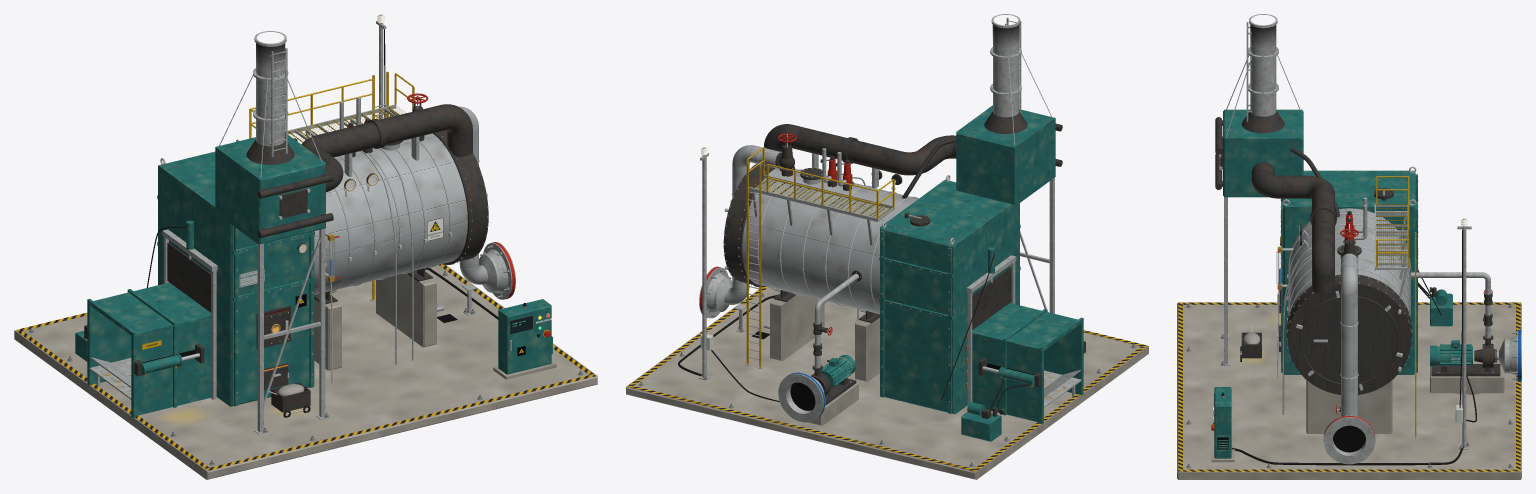
File: Boiler.glb
The picture shows the model from 3 angles, left to right: view 1: azimuth 30°, elevation 25°; view 2: azimuth 150°, elevation 25°; view 3: azimuth 270°, elevation 25°; orthographic projection. The views are drawn at different scales.
Parts seen in each view (by area): view 1: BO_Foundation_Concrete, BO_Furnace_Teal, BO_Shell_Lagging, BO_Feeder_Teal, BO_Chimney_Iron, BO_Chimney_Teal, BO_Chimney_Galv, BO_Controls_Teal, BO_Foundation_Hazard, BO_Shell_Iron, BO_Feeder_Galv, BO_Feeder_Iron (+8 smaller); view 2: BO_Foundation_Concrete, BO_Furnace_Teal, BO_Shell_Lagging, BO_Feeder_Teal, BO_Chimney_Teal, BO_Chimney_Iron, BO_Chimney_Galv, BO_Shell_Iron, BO_Foundation_Hazard, BO_Catwalk_Guard, BO_Catwalk_Galv, BO_Feeder_Galv (+13 smaller); view 3: BO_Foundation_Concrete, BO_Shell_Iron, BO_Furnace_Teal, BO_Chimney_Iron, BO_Chimney_Teal, BO_Shell_Lagging, BO_Chimney_Galv, BO_Foundation_Hazard, BO_Fittings_Lagging, BO_Pump_Iron, BO_Catwalk_Galv, BO_Shell_Steel (+16 smaller).
Part boxes in pixels (box(x1,y1,x2,y2)): BO_Foundation_Concrete: box(14, 265, 597, 479); BO_Furnace_Teal: box(157, 151, 314, 406); BO_Shell_Lagging: box(314, 133, 467, 294); BO_Feeder_Teal: box(75, 220, 211, 417); BO_Chimney_Iron: box(246, 104, 472, 238); BO_Chimney_Teal: box(215, 133, 325, 244); BO_Chimney_Galv: box(253, 31, 419, 434); BO_Controls_Teal: box(498, 299, 552, 374); BO_Foundation_Hazard: box(16, 264, 595, 470); BO_Shell_Iron: box(314, 130, 488, 304); BO_Feeder_Galv: box(89, 229, 217, 399); BO_Feeder_Iron: box(84, 242, 211, 376); BO_Foundation_Concrete: box(626, 287, 1148, 479); BO_Furnace_Teal: box(879, 180, 1020, 414); BO_Shell_Lagging: box(742, 168, 918, 314); BO_Feeder_Teal: box(961, 247, 1083, 441); BO_Chimney_Teal: box(956, 105, 1055, 205); BO_Chimney_Iron: box(764, 111, 1062, 198); BO_Chimney_Galv: box(812, 14, 1054, 313); BO_Shell_Iron: box(723, 163, 879, 323); BO_Foundation_Hazard: box(628, 286, 1146, 471); BO_Catwalk_Guard: box(746, 147, 894, 367); BO_Catwalk_Galv: box(744, 174, 894, 368); BO_Feeder_Galv: box(966, 255, 1081, 407); BO_Foundation_Concrete: box(1177, 302, 1521, 479); BO_Shell_Iron: box(1286, 245, 1412, 394); BO_Furnace_Teal: box(1281, 170, 1417, 374); BO_Chimney_Iron: box(1215, 111, 1339, 293); BO_Chimney_Teal: box(1223, 109, 1303, 197); BO_Shell_Lagging: box(1289, 208, 1409, 312); BO_Chimney_Galv: box(1221, 14, 1278, 365); BO_Foundation_Hazard: box(1178, 302, 1520, 471); BO_Fittings_Lagging: box(1341, 253, 1357, 416); BO_Pump_Iron: box(1410, 269, 1500, 376); BO_Catwalk_Galv: box(1374, 204, 1417, 439); BO_Shell_Steel: box(1287, 213, 1410, 390).
Size of what is drawn, in the model's own units: 14 by 13 by 12.
47 materials, 28 textured.
